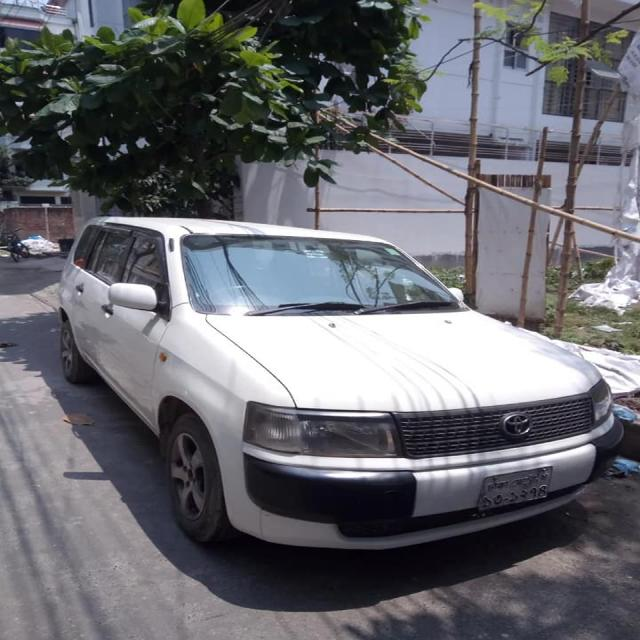car: (58, 200, 627, 576)
